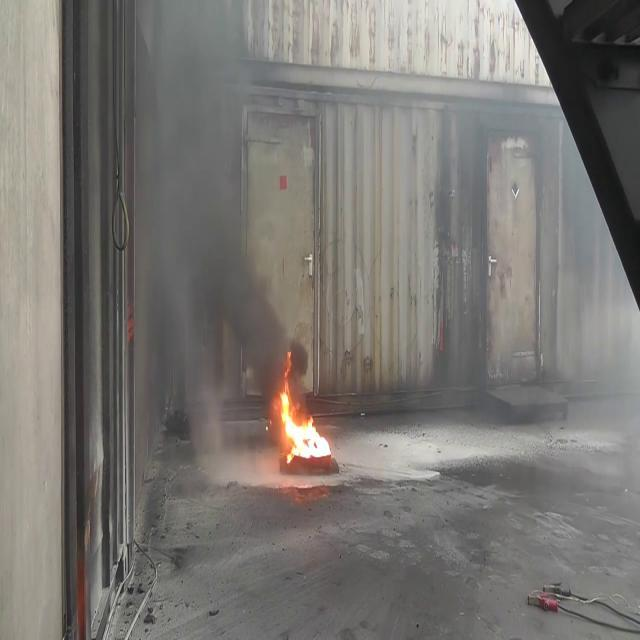Fire: (277, 375, 333, 464)
Smoke: (136, 2, 280, 469)
